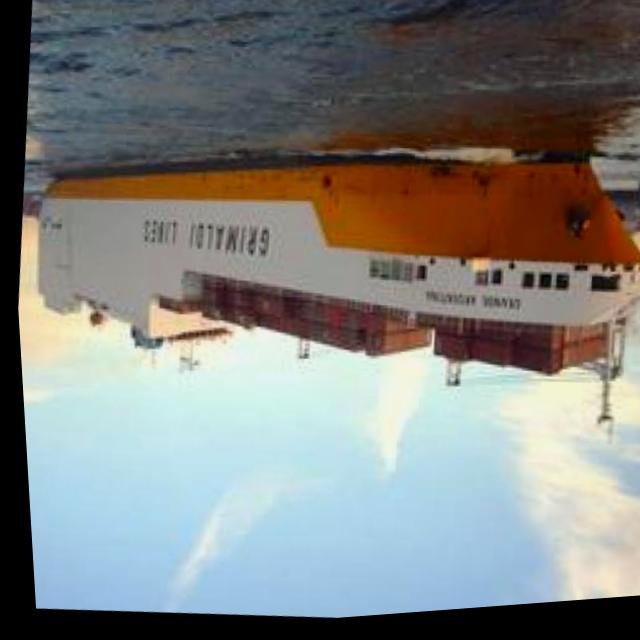ship2: (32, 155, 640, 438)
